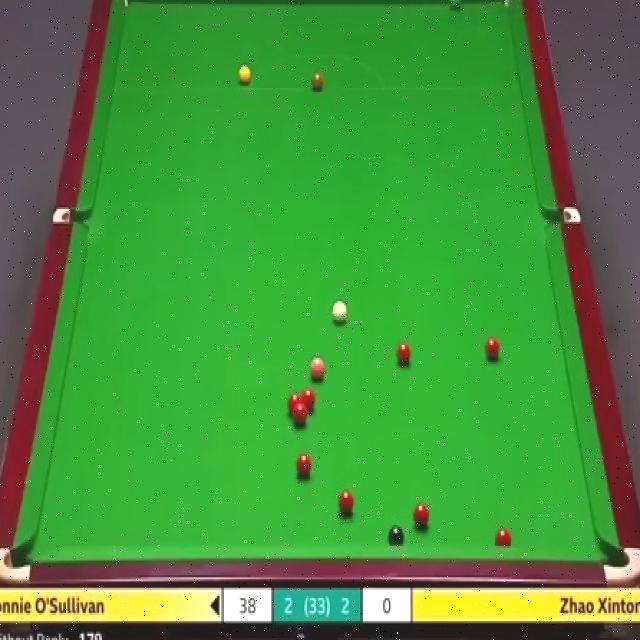black-ball: (387, 524, 404, 545)
brown-ball: (311, 70, 325, 93)
green-ball: (447, 0, 462, 8)
pink-ball: (308, 355, 326, 380)
red-ball: (338, 488, 354, 518), (413, 502, 430, 530), (297, 452, 313, 479), (396, 342, 412, 366), (485, 336, 500, 361), (302, 388, 316, 411), (294, 404, 308, 426), (497, 528, 512, 548), (289, 394, 301, 408)
white-ball: (331, 299, 348, 324)
yellow-ball: (237, 64, 251, 85)
